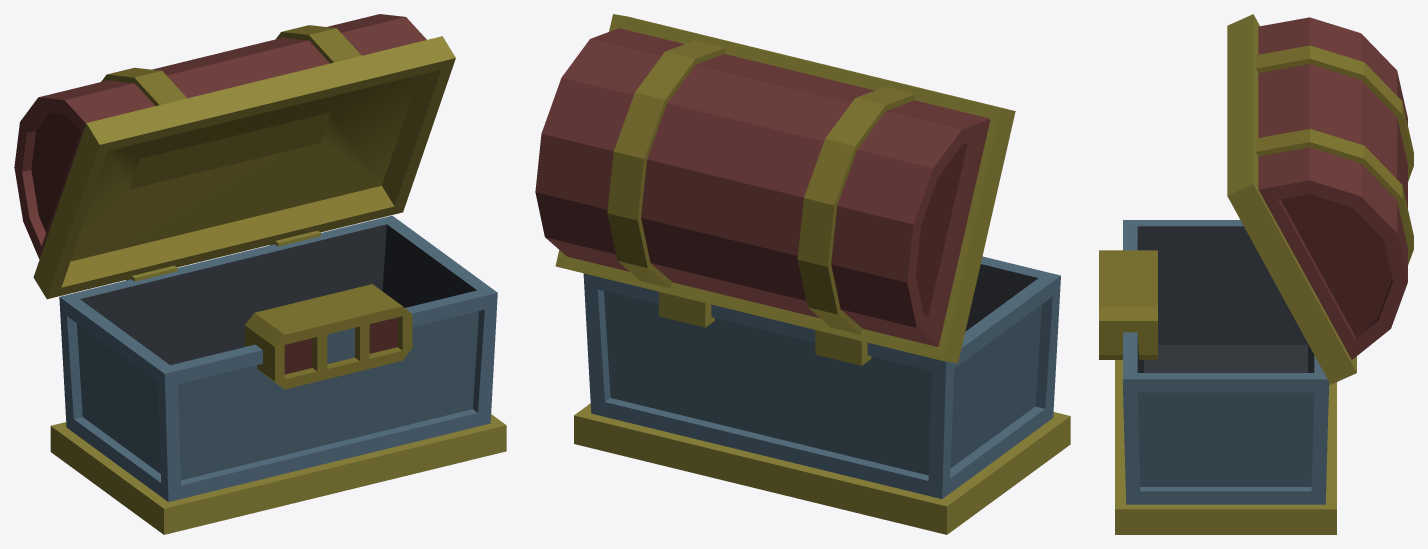
Rendered from Treasure_Chest.fbx.
The picture shows the model from 3 angles, left to right: view 1: azimuth 30°, elevation 25°; view 2: azimuth 150°, elevation 25°; view 3: azimuth 270°, elevation 25°; orthographic projection. The views are drawn at different scales.
Visible parts, largest first — view 1: Chest_Main, Chest_Lid, Chest_Locks; view 2: Chest_Lid, Chest_Main; view 3: Chest_Main, Chest_Lid, Chest_Locks.
Part boxes in pixels (x1,y1,x2,y2): Chest_Main: [50, 215, 506, 534]; Chest_Lid: [14, 14, 455, 299]; Chest_Locks: [245, 284, 412, 389]; Chest_Lid: [535, 14, 1015, 363]; Chest_Main: [574, 256, 1070, 534]; Chest_Main: [1115, 220, 1336, 534]; Chest_Lid: [1227, 14, 1413, 384]; Chest_Locks: [1099, 250, 1157, 359].
Size of the model in its own units: 10.12 by 9.97 by 7.91.
